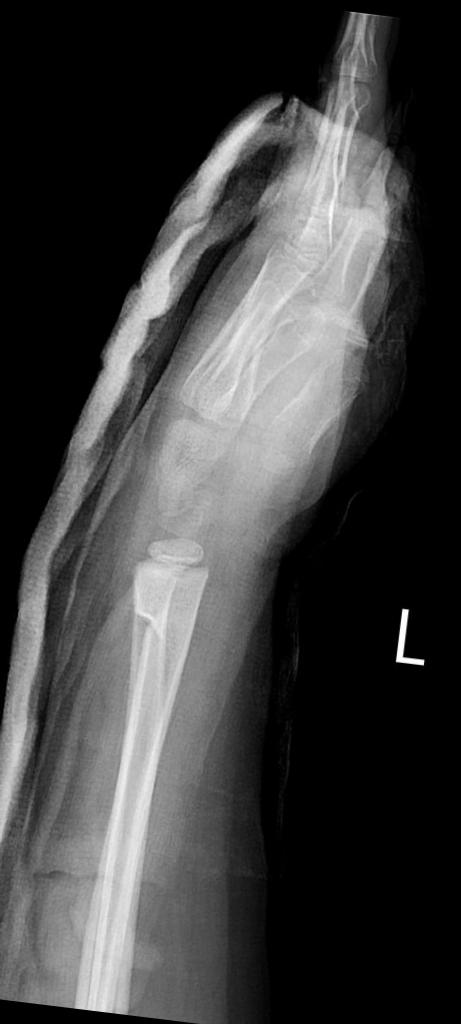line: (127, 611, 163, 659)
